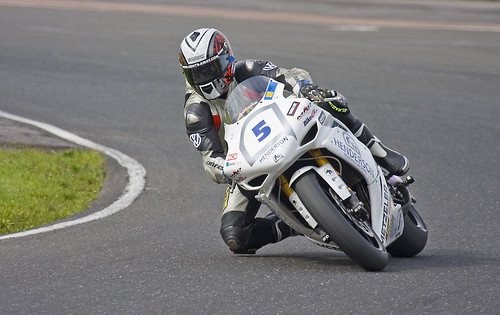helmet: (180, 21, 235, 100)
